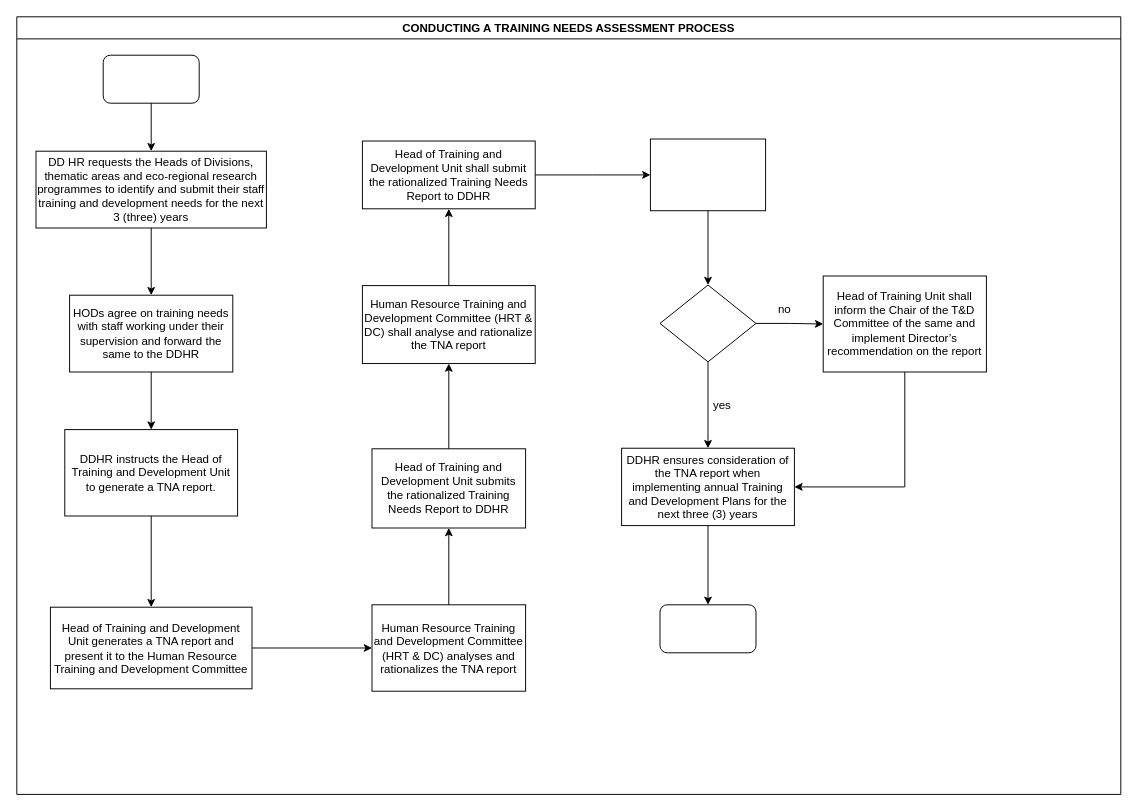
Some shapes in this 1138 by 811 pixel diagram are drawn without their labels. The centre of each missing label's shape, as x and y in pixels:
"DDHR submits report to the Director for approval" goes at point (707, 174).
"End" goes at point (707, 628).
"report Approved?" goes at point (707, 323).
"Start" goes at point (150, 78).
